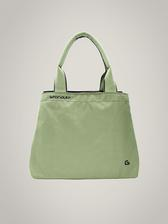bag: (23, 30, 142, 182)
